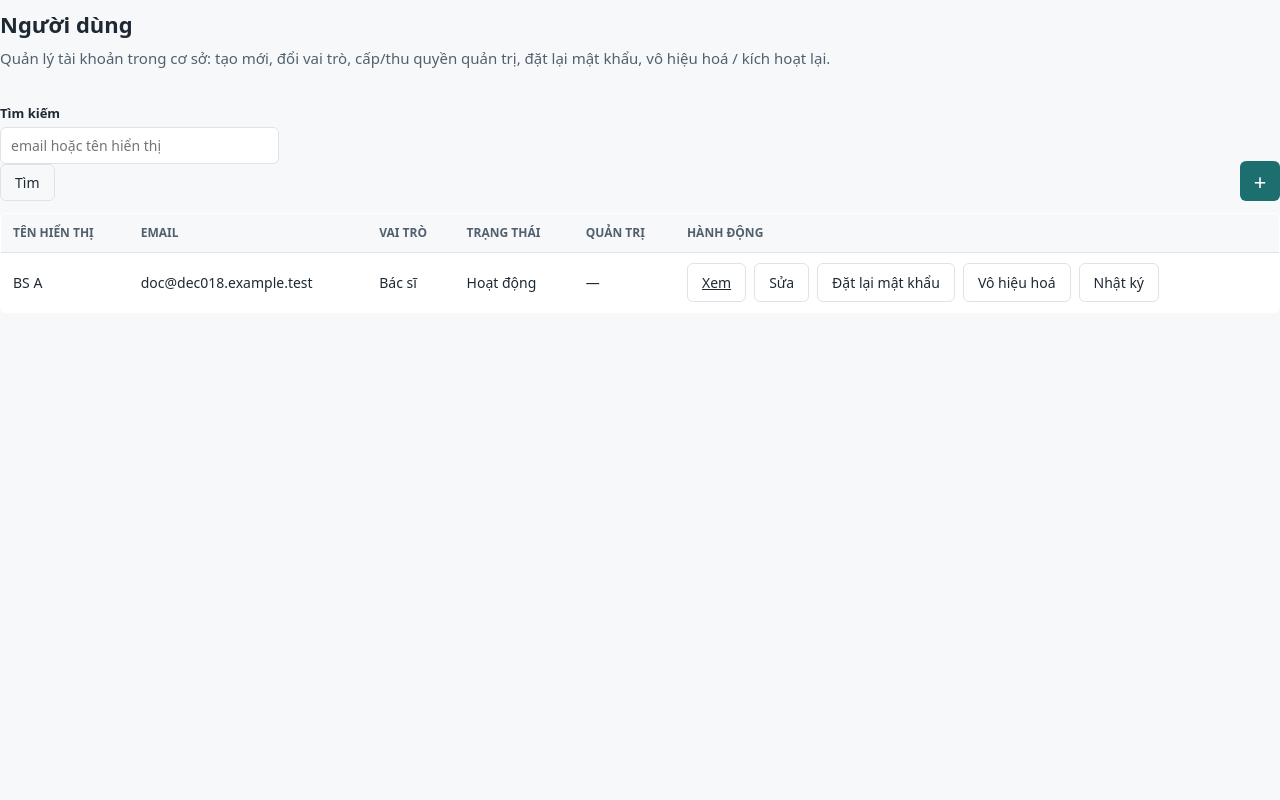
Scenario: UsersPage (DEC-018 T5) › edit user (T8 — modal) › "X" and "Esc" close the modal without saving
Expected: the text "doc@dec018.example.test" is shown, top-left (129, 252), bottom-right (367, 312)
Click the button "Sửa".
click(782, 282)  # box top-left (754, 263), bottom-right (809, 302)
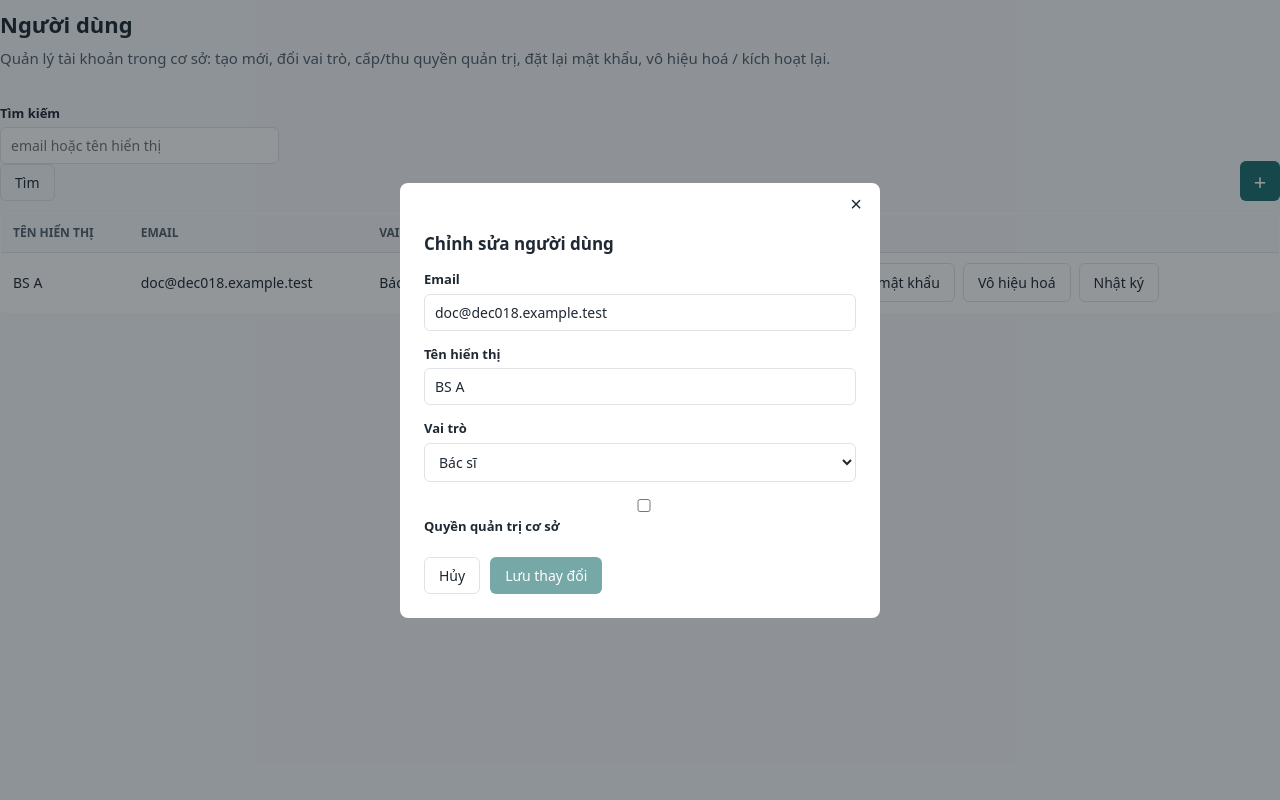
Type " X" into the field labelled "Tên hiển thị".
click(640, 386); type(" X")  # box top-left (424, 368), bottom-right (856, 405)
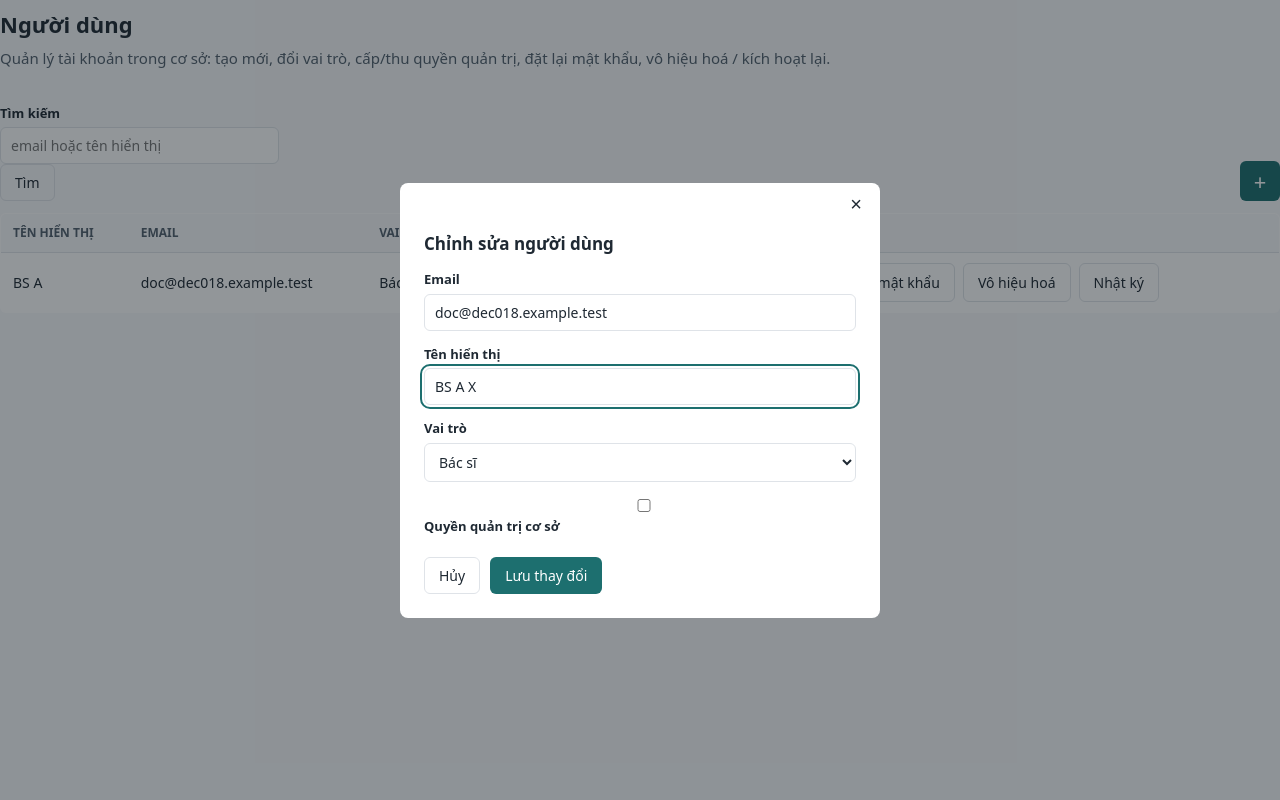
Click the button named "Đóng".
click(856, 204)  # box top-left (844, 192), bottom-right (868, 214)
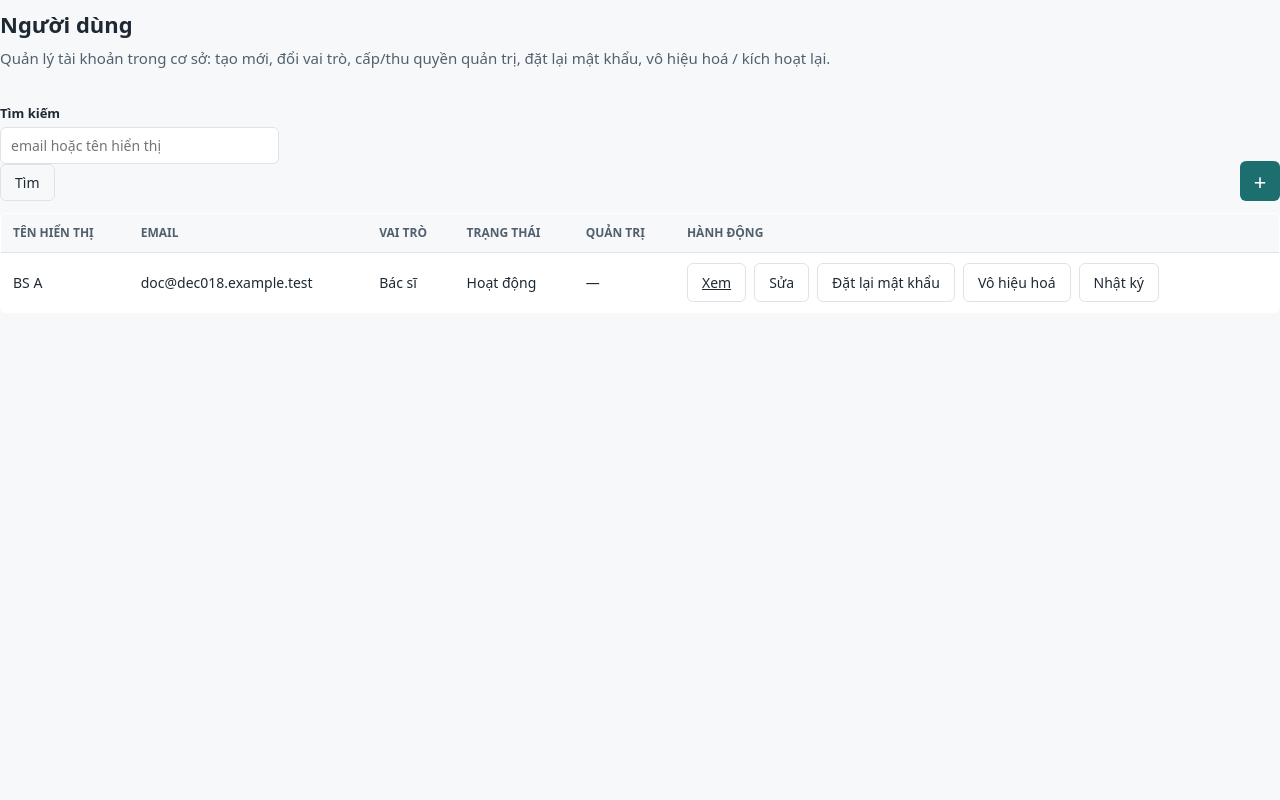
Now the dialog is gone
Click the button "Sửa".
click(782, 282)  # box top-left (754, 263), bottom-right (809, 302)
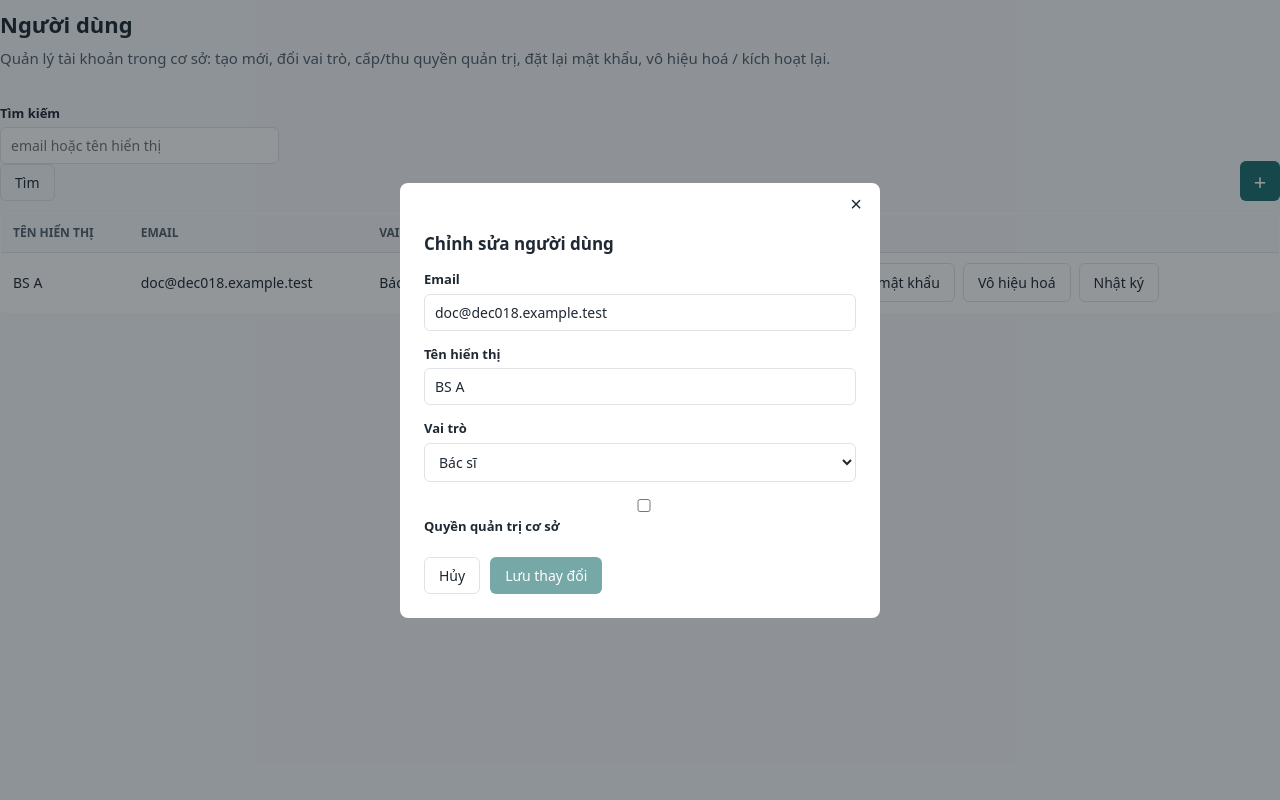
Now the dialog is shown
Press Escape
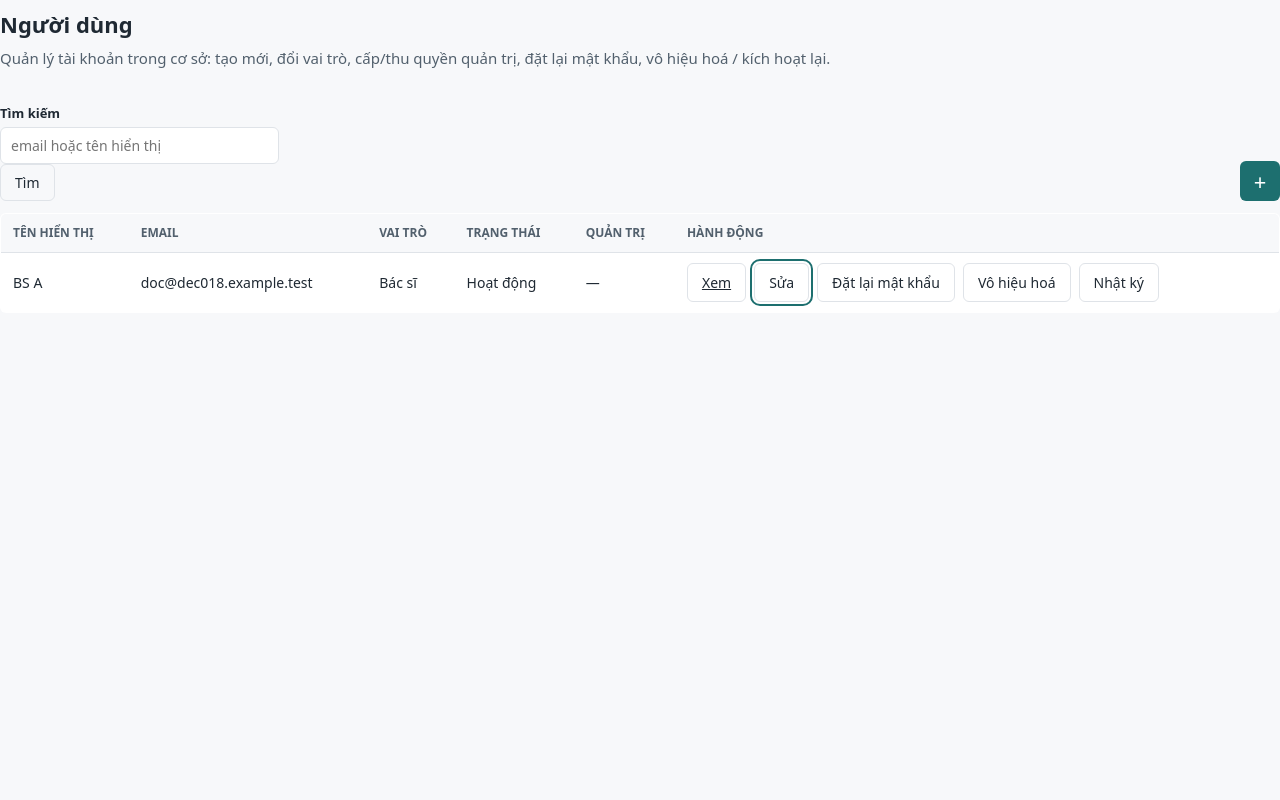
Now the dialog is gone
